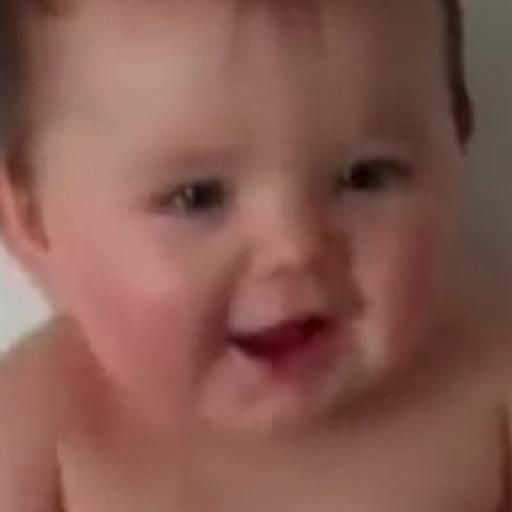Autism: (39, 30, 480, 449)
